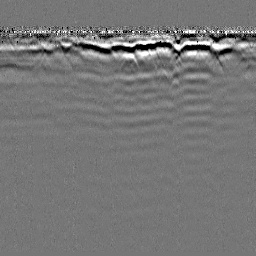cavity: (118, 50, 142, 73)
